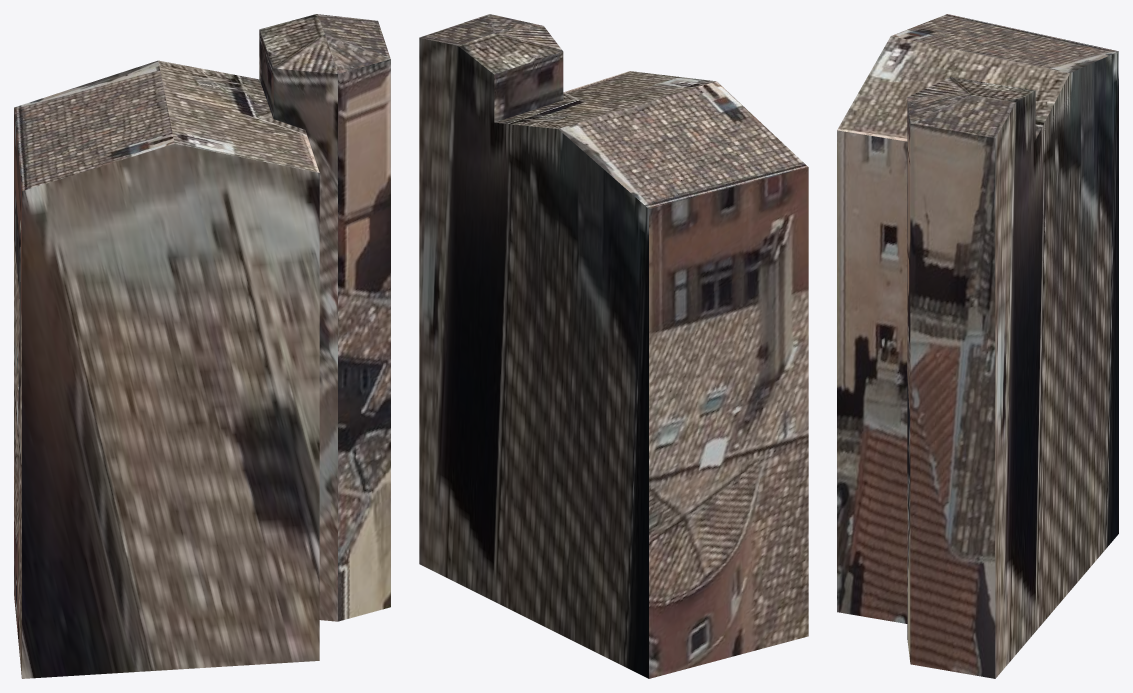
3 renders of one model, left to right at view 1: azimuth 30°, elevation 25°; view 2: azimuth 150°, elevation 25°; view 3: azimuth 270°, elevation 25°, orthographic. The views are drawn at different scales.
Parts seen in each view (by area): view 1: Z_UP; view 2: Z_UP; view 3: Z_UP.
Boxes of the visible parts, <box> form: Z_UP: <box>14,14,390,678</box>; Z_UP: <box>419,14,808,678</box>; Z_UP: <box>837,14,1118,678</box>.
Size of the model in its own units: 14.78 by 20.75 by 9.61.
2 materials, 1 textured.
